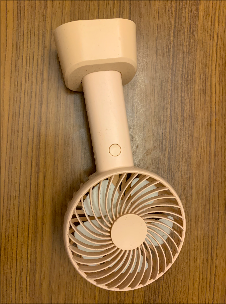object_name: (68, 40, 174, 285)
